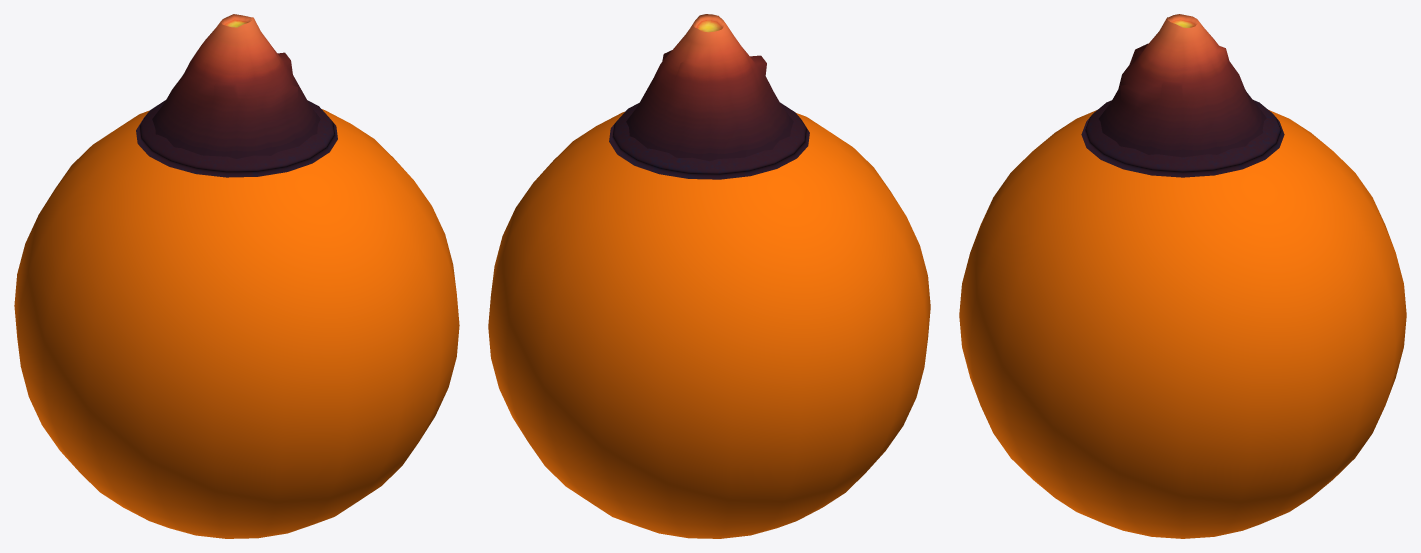
File: wakusei_kazan.fbx
3 renders of one model, left to right at view 1: azimuth 30°, elevation 25°; view 2: azimuth 150°, elevation 25°; view 3: azimuth 270°, elevation 25°, orthographic.
Visible parts, largest first — view 1: polySurface1, pCylinder2, polySurface2; view 2: polySurface1, pCylinder2, polySurface2; view 3: polySurface1, pCylinder2, polySurface2.
Part boxes in pixels (box(x1,y1,x2,y2)): polySurface1: box(14, 109, 459, 538); pCylinder2: box(152, 14, 320, 158); polySurface2: box(136, 100, 337, 177); polySurface1: box(488, 111, 930, 538); pCylinder2: box(626, 14, 793, 161); polySurface2: box(609, 102, 809, 179); polySurface1: box(959, 110, 1406, 538); pCylinder2: box(1098, 14, 1266, 157); polySurface2: box(1081, 100, 1284, 177).
Size of the model in its own units: 12.49 by 15.42 by 12.49.
